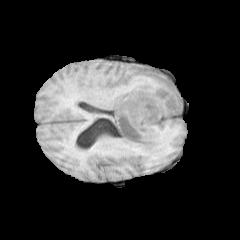glioma: (92, 66, 182, 161)
